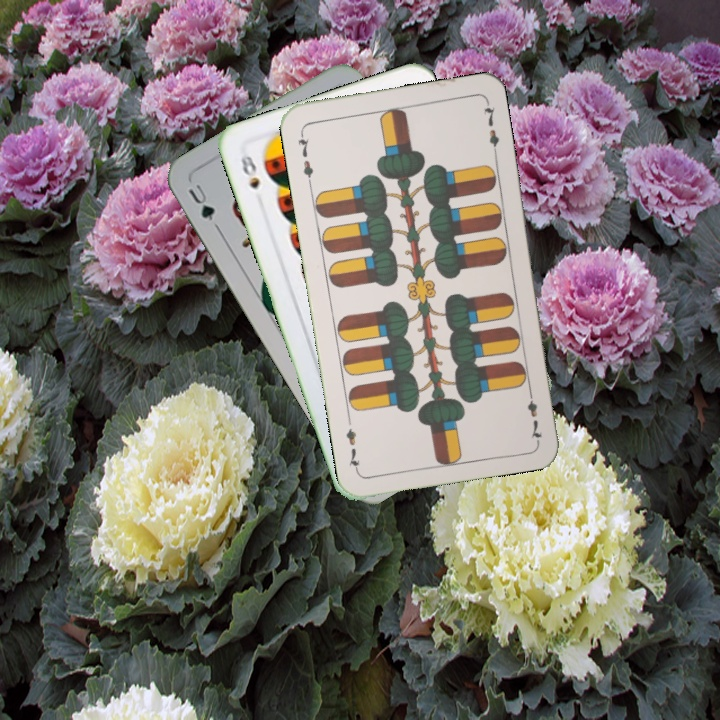E7: (293, 127, 316, 186), (523, 384, 545, 443)
GU: (184, 179, 218, 224)
S8: (235, 147, 263, 192)
